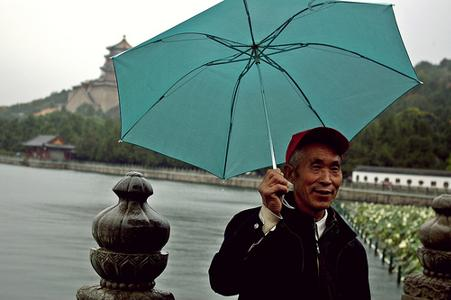person: (208, 128, 373, 300)
